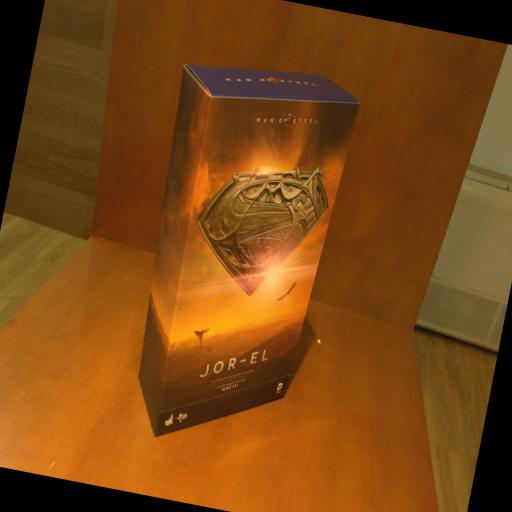superman: (114, 48, 362, 460)
